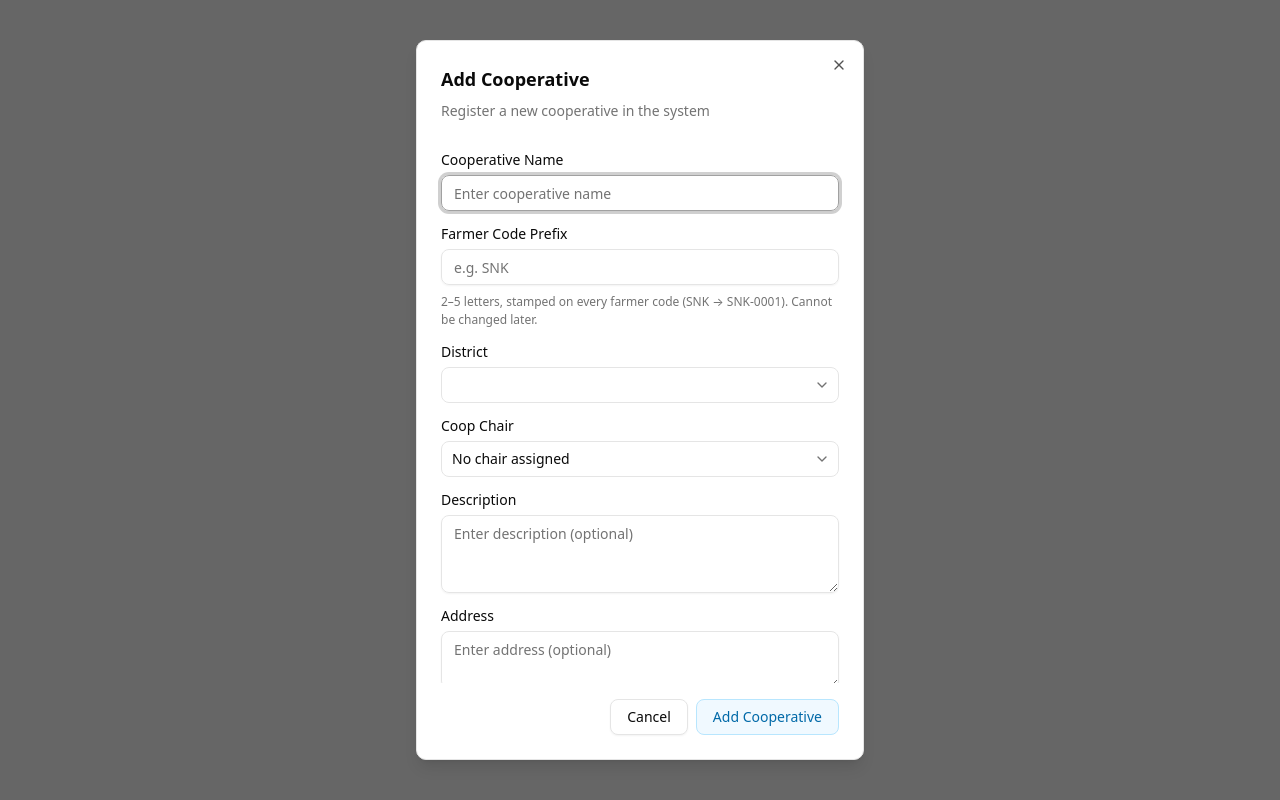
Test: CooperativeDialog — create mode › empty name + Add → "Name is required."
The width and height of the screenshot is (1280, 800).
Click the button "Add Cooperative" at (767, 717), box [696,699,839,735]
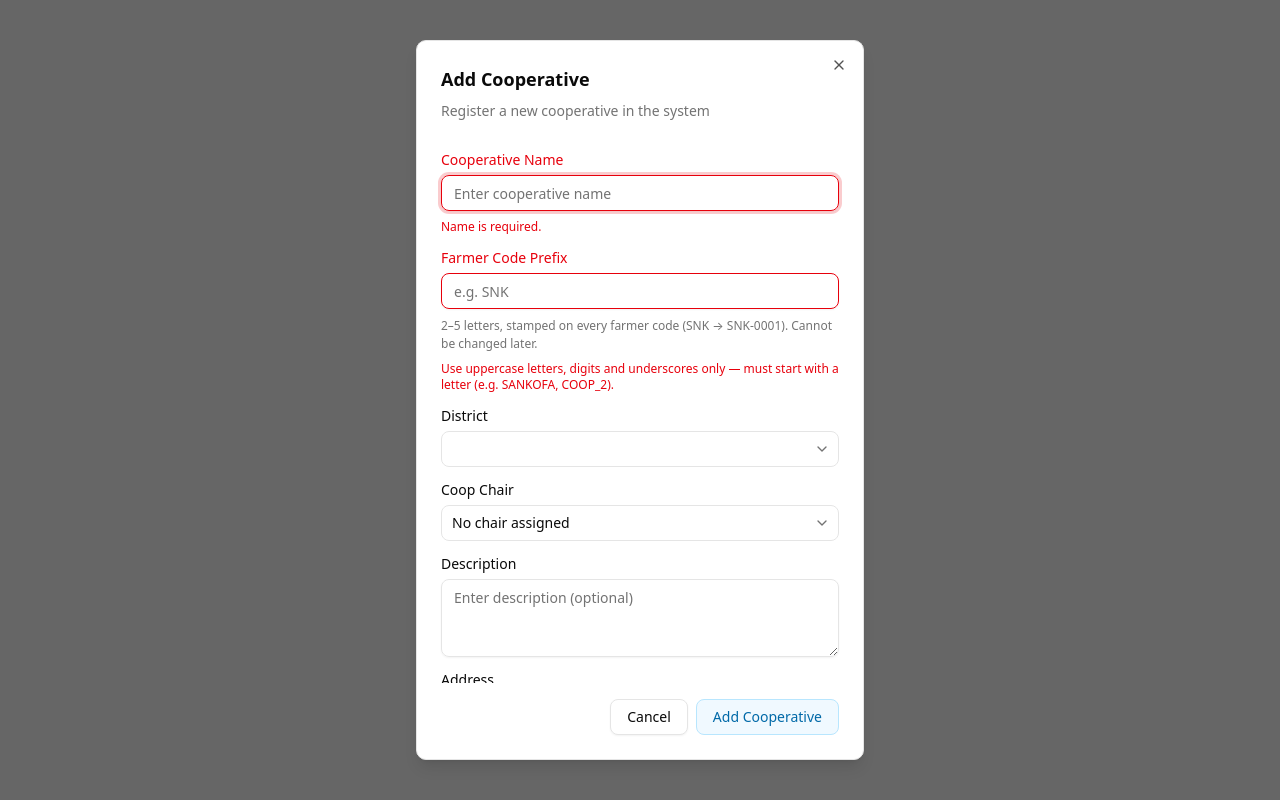
Result: the text "Name is required." is shown at [441,218,541,235]
